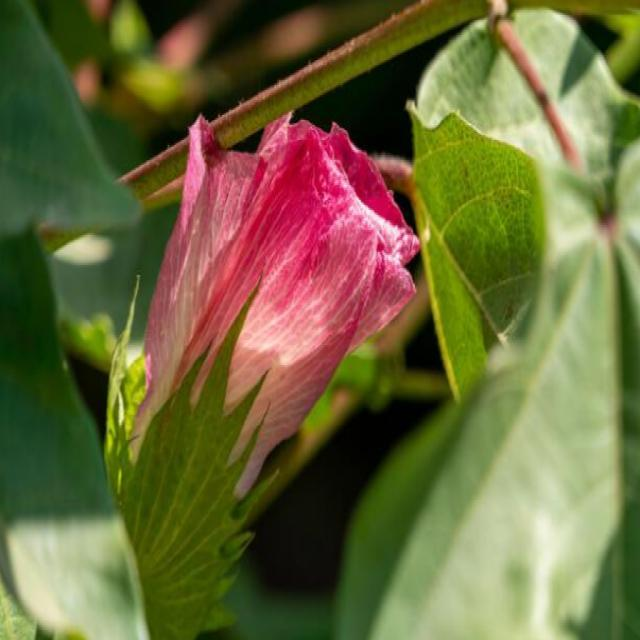Cotton Blossom: (112, 113, 420, 549)
